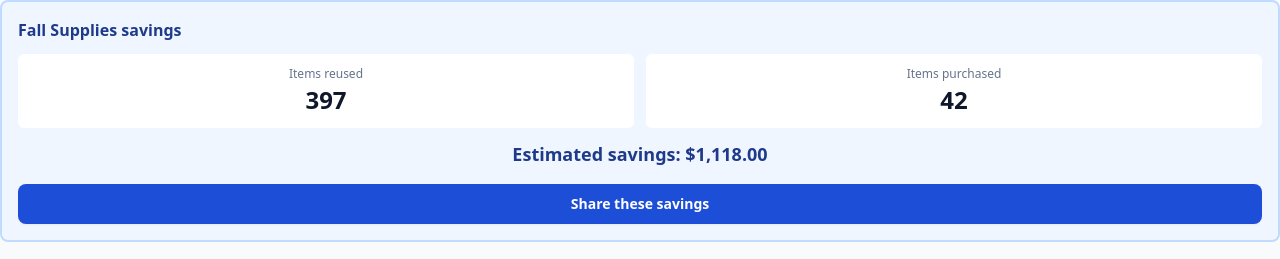
SavingsSummaryCard › falls back to copying the shareable message to the clipboard when Web Share is unavailable
The width and height of the screenshot is (1280, 259).
Click the button "Share these savings" at (640, 204), box [18, 184, 1262, 224]
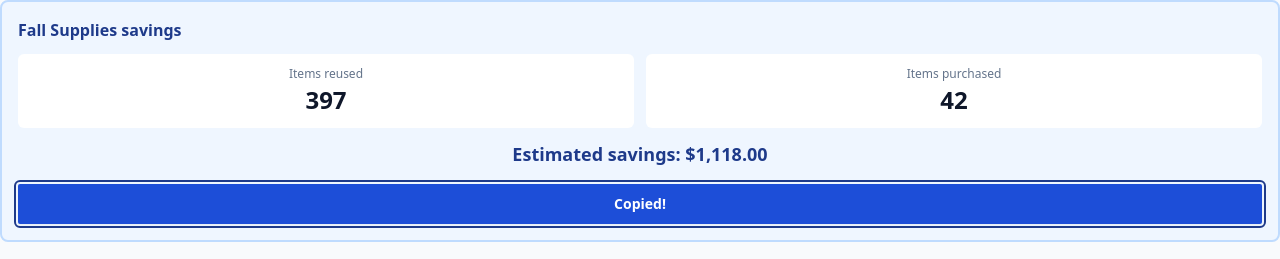
Check: the button "Copied!" is shown, box [18, 184, 1262, 224]
